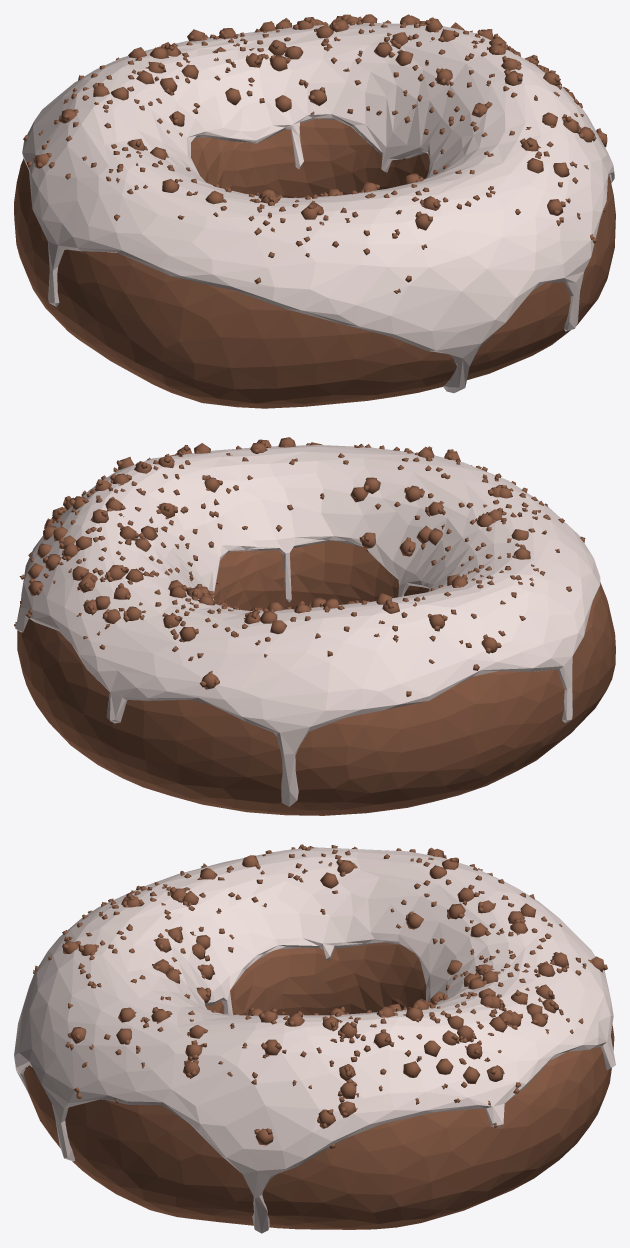
The picture shows the model from 3 angles, top to bottom: view 1: azimuth 30°, elevation 25°; view 2: azimuth 150°, elevation 25°; view 3: azimuth 270°, elevation 25°; orthographic projection.
Parts seen in each view (by area): view 1: Donut2.001; view 2: Donut2.001; view 3: Donut2.001.
Boxes of the visible parts, bbox=[...] form: Donut2.001: bbox=[14, 14, 615, 408]; Donut2.001: bbox=[14, 437, 615, 815]; Donut2.001: bbox=[14, 844, 615, 1233].
Size of the model in its own units: 2.1 by 0.8136 by 2.09.
